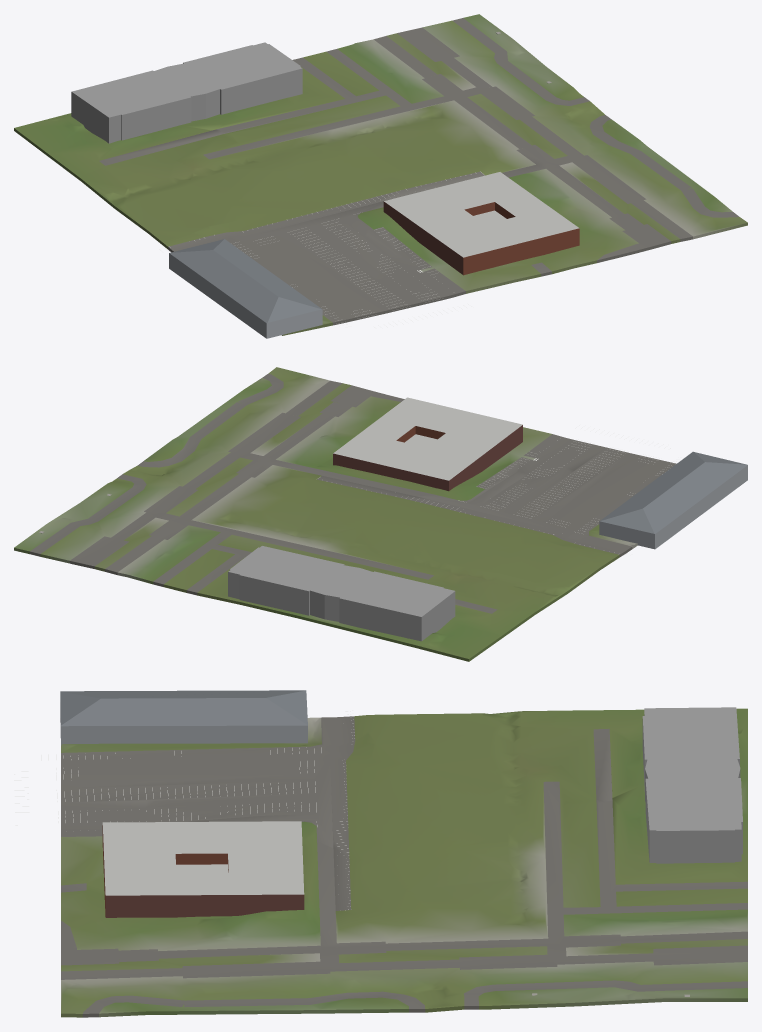
The picture shows the model from 3 angles, top to bottom: view 1: azimuth 30°, elevation 25°; view 2: azimuth 150°, elevation 25°; view 3: azimuth 270°, elevation 25°; orthographic projection. The views are drawn at different scales.
Parts seen in each view (by area): view 1: D--3-0.L0:utd:matte, D--3-0.L0:utd:matte:flat, D--3-0.L0:utd:metal:flat; view 2: D--3-0.L0:utd:matte, D--3-0.L0:utd:matte:flat, D--3-0.L0:utd:metal:flat; view 3: D--3-0.L0:utd:matte, D--3-0.L0:utd:matte:flat, D--3-0.L0:utd:metal:flat, D--3-0.L0:utd:paint:flat.
Boxes of the visible parts, bbox=[...] form: D--3-0.L0:utd:matte: bbox=[14, 14, 747, 335]; D--3-0.L0:utd:matte:flat: bbox=[71, 32, 579, 275]; D--3-0.L0:utd:metal:flat: bbox=[169, 239, 322, 338]; D--3-0.L0:utd:matte: bbox=[14, 367, 676, 661]; D--3-0.L0:utd:matte:flat: bbox=[39, 397, 522, 641]; D--3-0.L0:utd:metal:flat: bbox=[599, 451, 747, 549]; D--3-0.L0:utd:matte: bbox=[61, 708, 747, 1017]; D--3-0.L0:utd:matte:flat: bbox=[102, 707, 742, 996]; D--3-0.L0:utd:metal:flat: bbox=[60, 690, 307, 745]; D--3-0.L0:utd:paint:flat: bbox=[14, 711, 347, 849].
Bounding box in the file's own units: 266 × 22.14 × 274.
